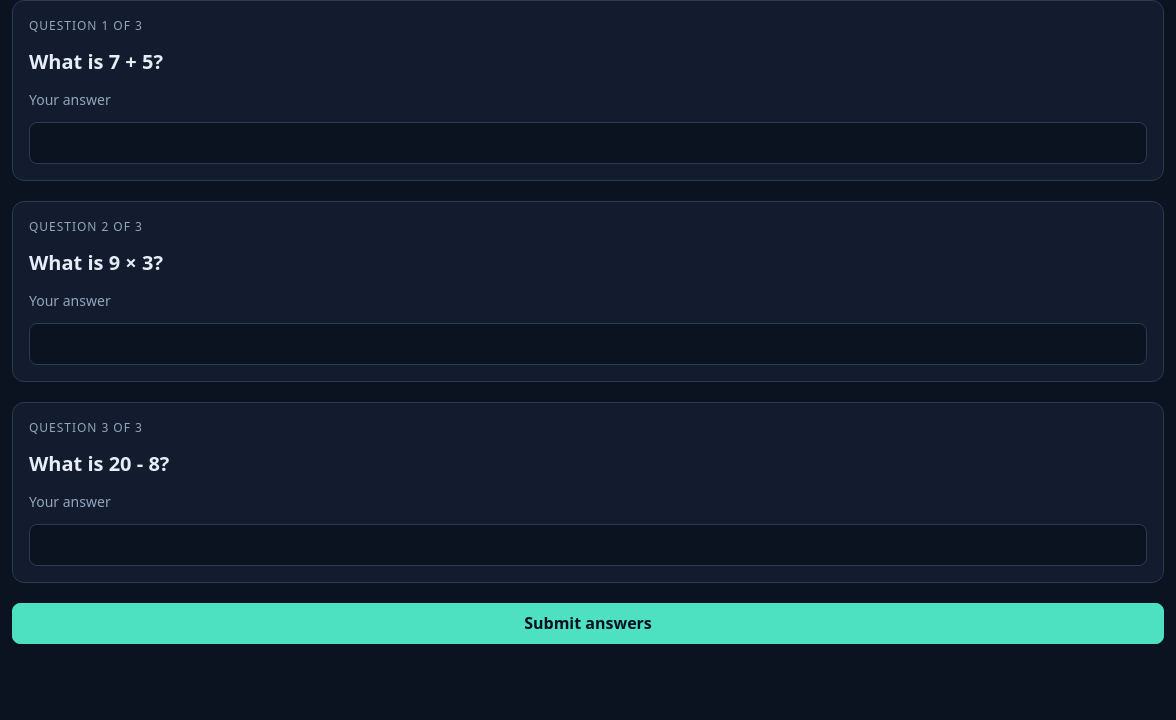
Test case: QuestionForm › shows a bounded API error when the backend is unavailable
This screenshot has width=1176, height=720.
Expected: the heading "What is 7 + 5?" is shown, [29, 47, 163, 77]
Step 1. Type "12" into the field labelled "Your answer" below "What is 7 + 5?" → {"x": 588, "y": 143}, box [29, 122, 1147, 164]
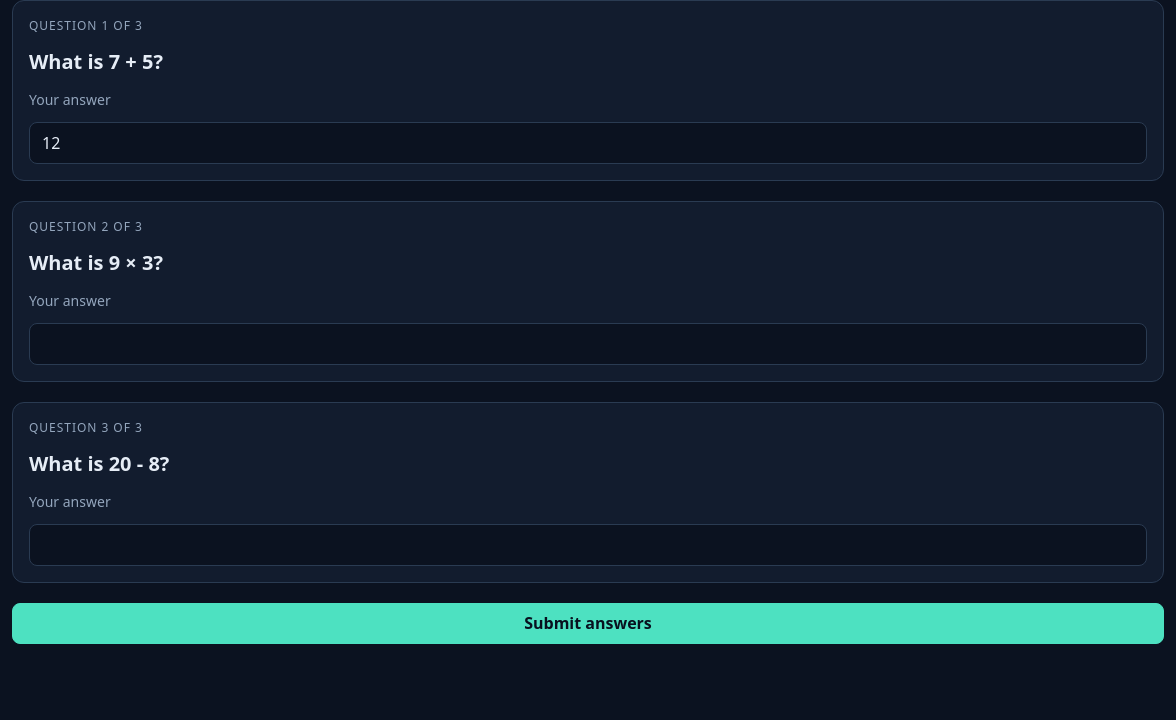
Step 2. Type "27" into the field labelled "Your answer" below "What is 9 × 3?" → {"x": 588, "y": 344}, box [29, 323, 1147, 365]
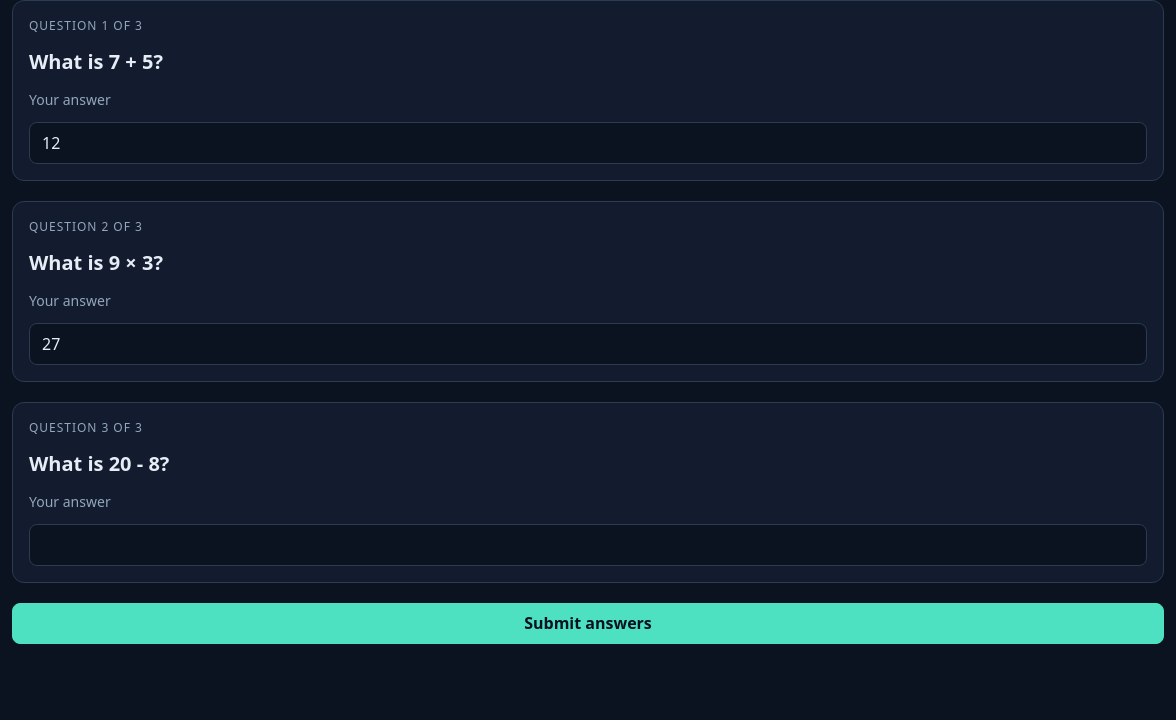
Step 3. Type "12" into the field labelled "Your answer" below "What is 20 - 8?" → {"x": 588, "y": 545}, box [29, 524, 1147, 566]
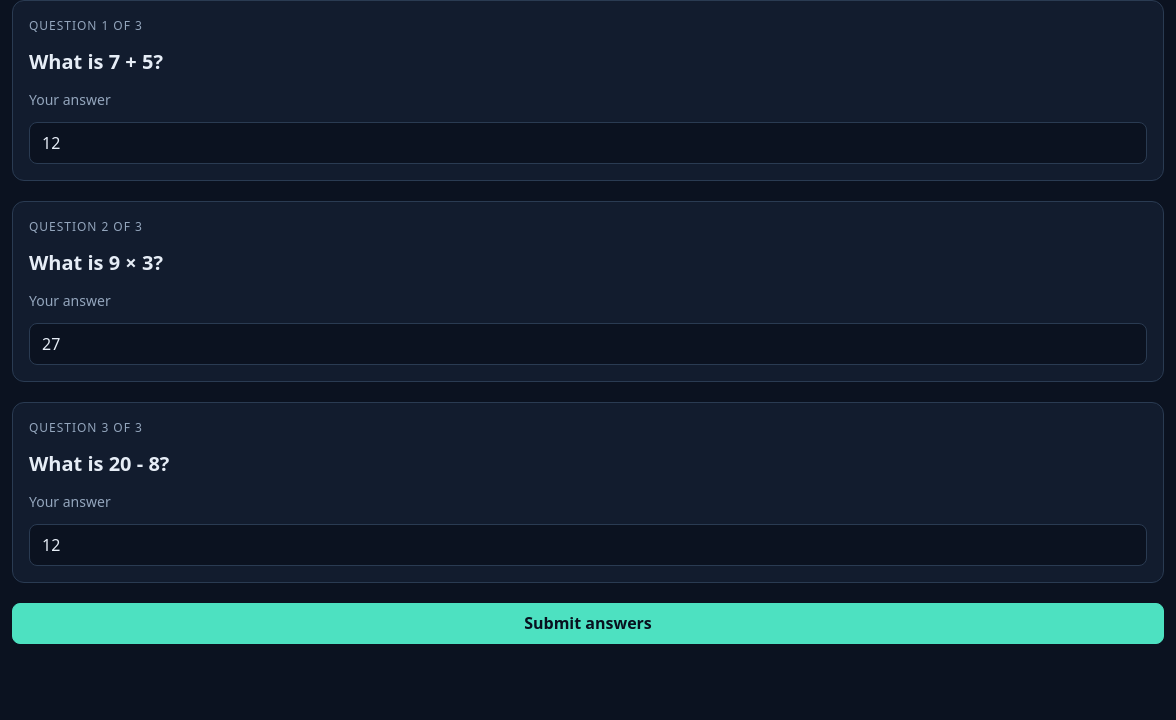
Step 4. Click the button "Submit answers" → {"x": 588, "y": 624}, box [12, 603, 1164, 644]
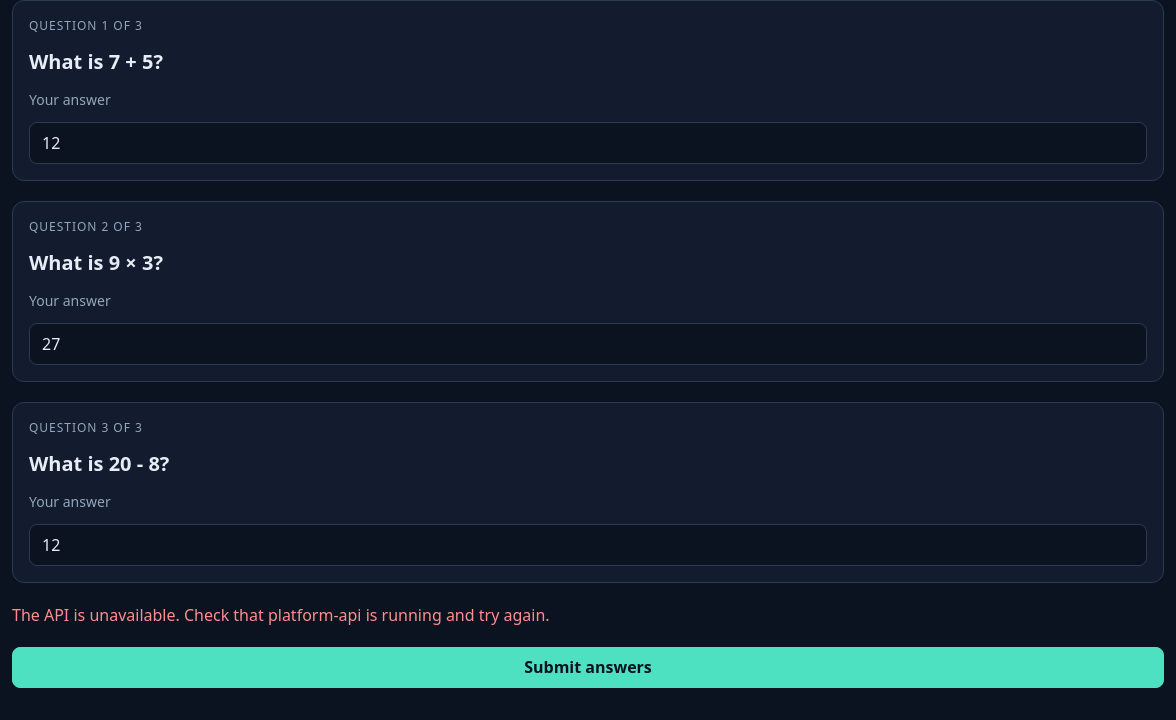
Result: the message shows "unavailable" at [12, 604, 550, 626]
